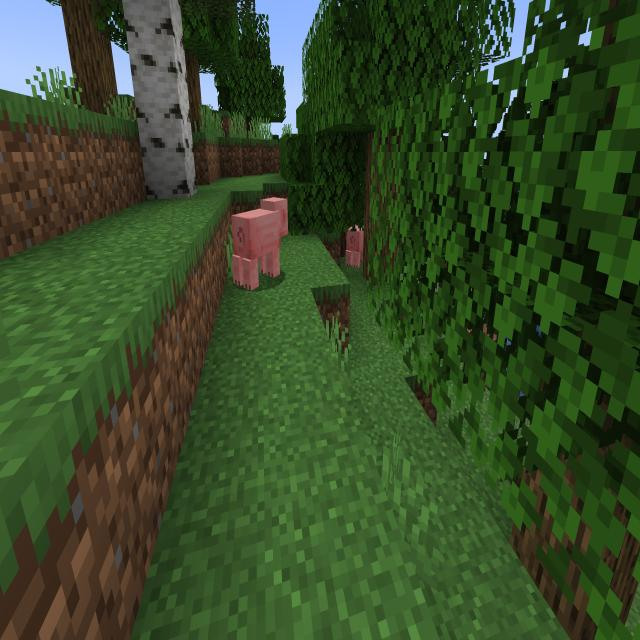pig: (225, 185, 296, 296), (343, 210, 371, 282)
